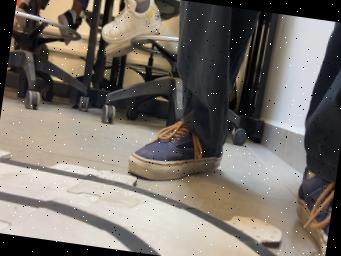street: (0, 158, 277, 256)
